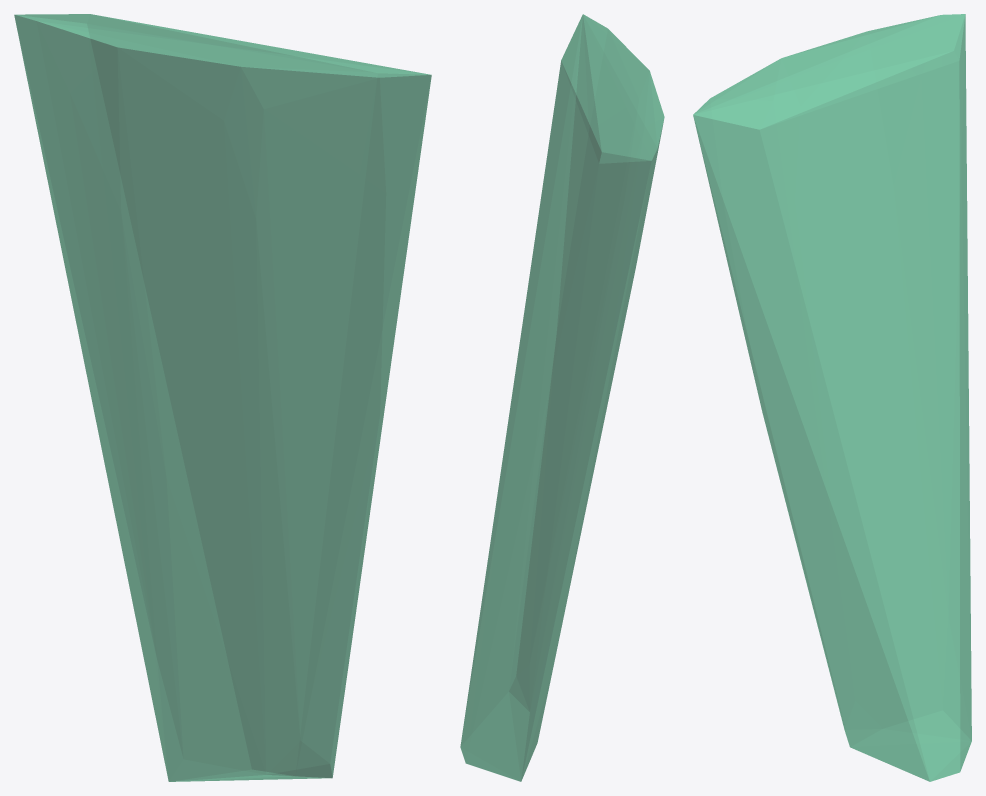
The picture shows the model from 3 angles, left to right: view 1: azimuth 30°, elevation 25°; view 2: azimuth 150°, elevation 25°; view 3: azimuth 270°, elevation 25°; orthographic projection. The views are drawn at different scales.
Visible parts, largest first — view 1: Shape_IndexedFaceSet.032_Shape_IndexedFaceSet.7658; view 2: Shape_IndexedFaceSet.032_Shape_IndexedFaceSet.7658; view 3: Shape_IndexedFaceSet.032_Shape_IndexedFaceSet.7658.
Boxes of the visible parts, box(x1,y1,x2,y2) form: Shape_IndexedFaceSet.032_Shape_IndexedFaceSet.7658: box(14, 14, 431, 781); Shape_IndexedFaceSet.032_Shape_IndexedFaceSet.7658: box(460, 14, 664, 781); Shape_IndexedFaceSet.032_Shape_IndexedFaceSet.7658: box(693, 14, 971, 781).
Size of the model in its own units: 0.3781 by 1.13 by 0.4285.
